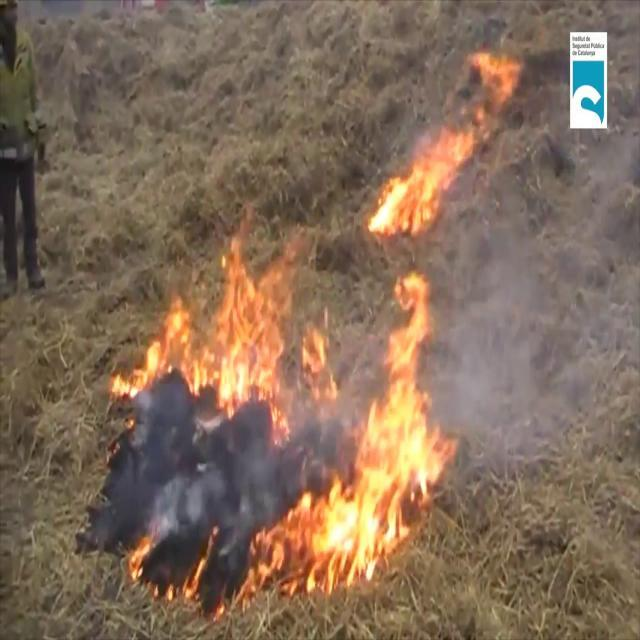Fire: (270, 316, 472, 592), (112, 224, 309, 426), (366, 42, 526, 240), (120, 520, 164, 582)
Smoke: (438, 192, 624, 478)
